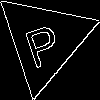P: (19, 15, 64, 69)
